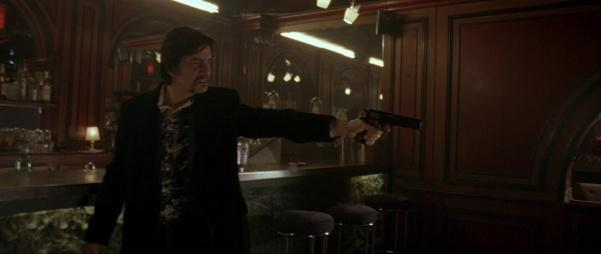Gun: (355, 107, 427, 145)
